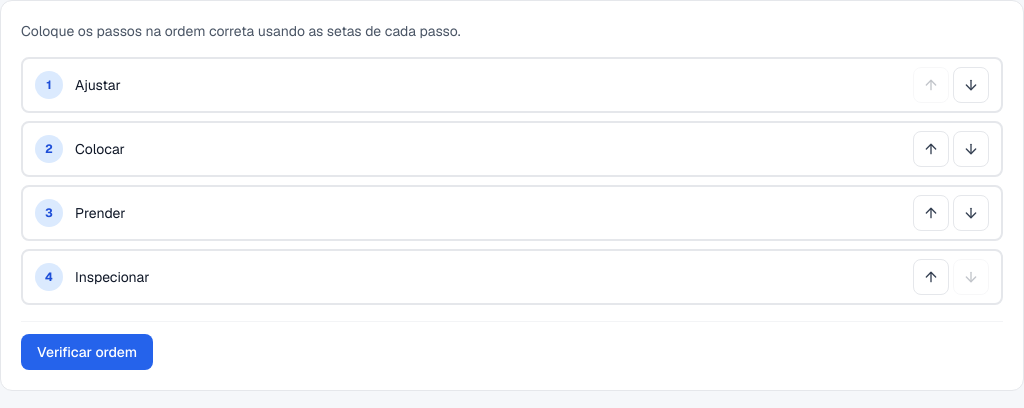
Test: SequenceBlock › starts shuffled and moves steps with the arrows, keeping the focus on the moved step
Click the button named "Mover “Inspecionar” para cima".
click(931, 277)  # box left=913, top=259, right=949, bottom=295
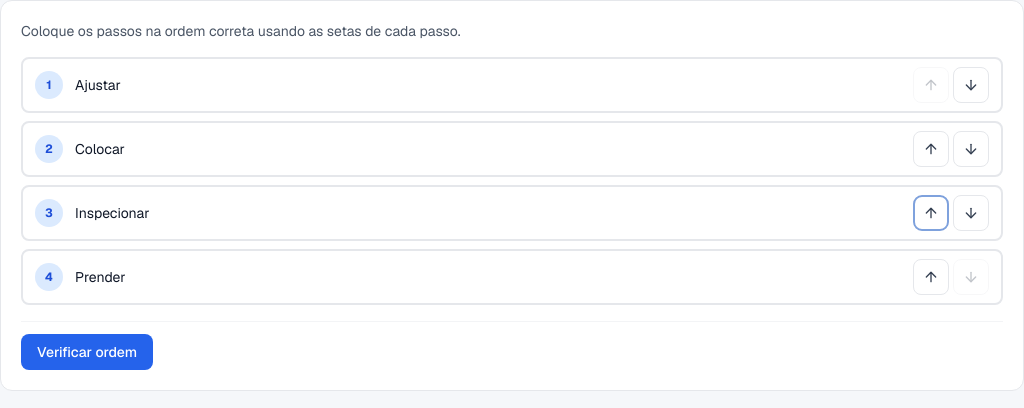
Press Enter
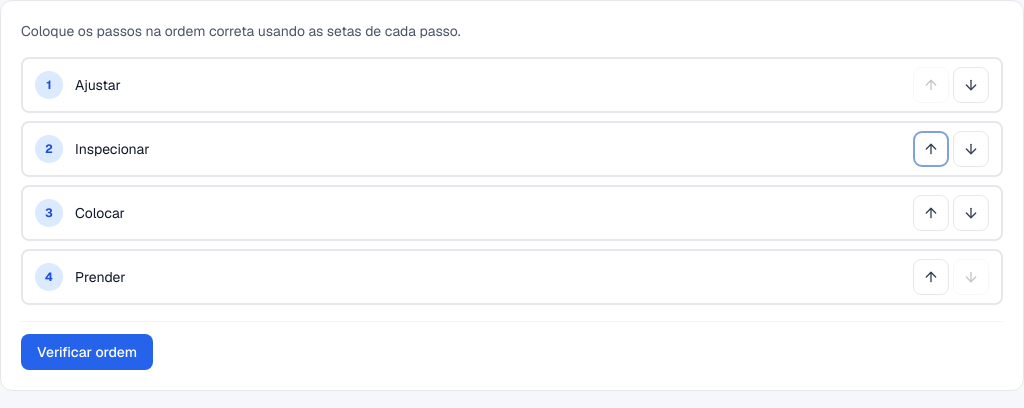
Press Enter
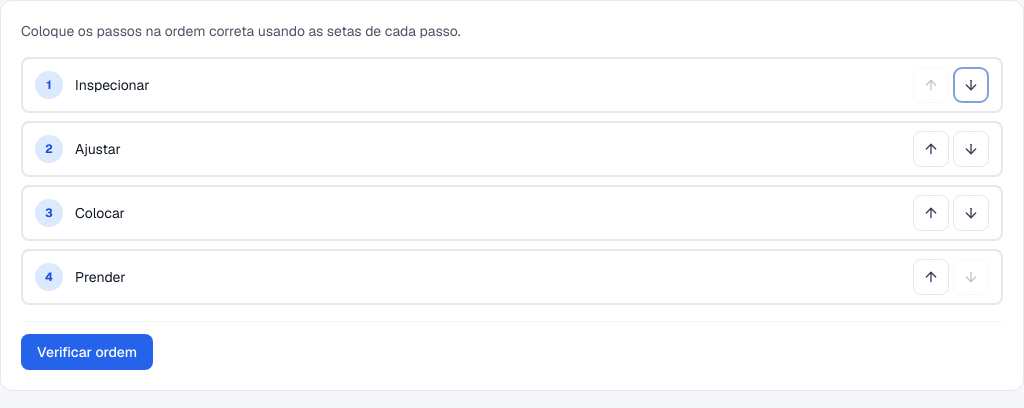
Check: the list item "1 Inspecionar" is shown, box left=21, top=57, right=1003, bottom=113
